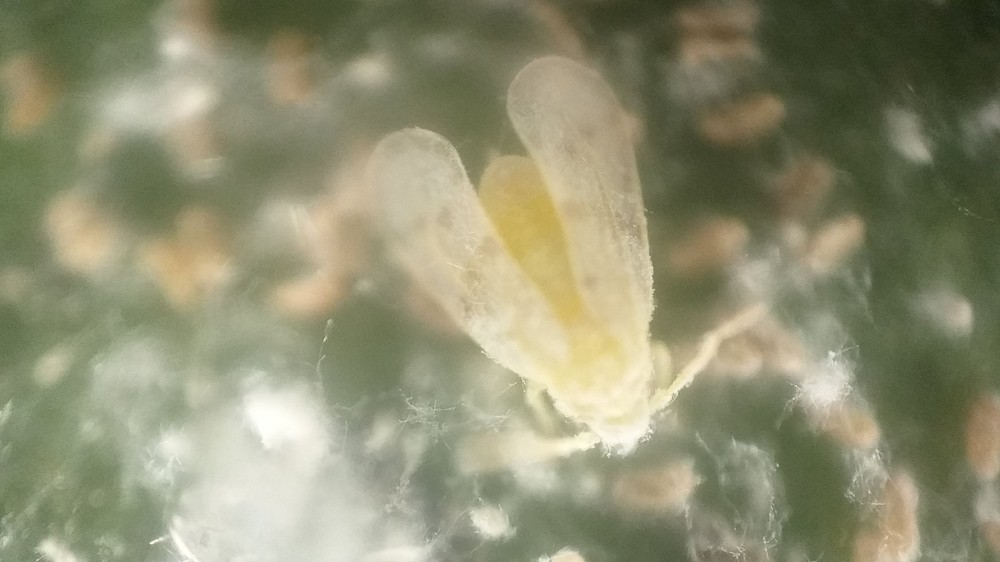Mosca Blanca: (323, 42, 801, 508)
